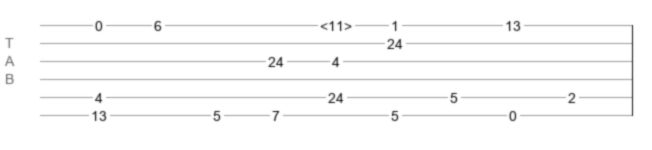0: (95, 18, 103, 28), (509, 108, 517, 118)
1: (391, 18, 399, 28)
13: (91, 108, 107, 118), (505, 18, 521, 28)
2: (568, 90, 576, 100)
24: (268, 54, 284, 64), (328, 90, 344, 100), (387, 36, 403, 46)
4: (95, 90, 103, 100), (332, 54, 340, 64)
5: (213, 108, 221, 118), (391, 108, 399, 118), (450, 90, 458, 100)
6: (154, 18, 162, 28)
7: (272, 108, 280, 118)
harmonic: (320, 18, 352, 28)
